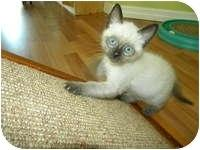siamese: (95, 3, 162, 68)
